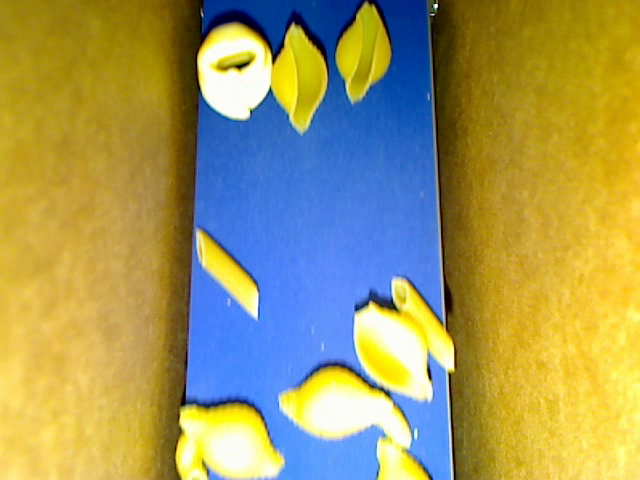elbow: (372, 402, 412, 447), (175, 431, 209, 479)
penne: (390, 275, 454, 372), (196, 227, 259, 320)
shell: (277, 364, 393, 440), (353, 299, 433, 403), (178, 402, 285, 477), (269, 21, 328, 134), (335, 3, 391, 104), (374, 436, 430, 479)
tortellini: (196, 21, 273, 119)
